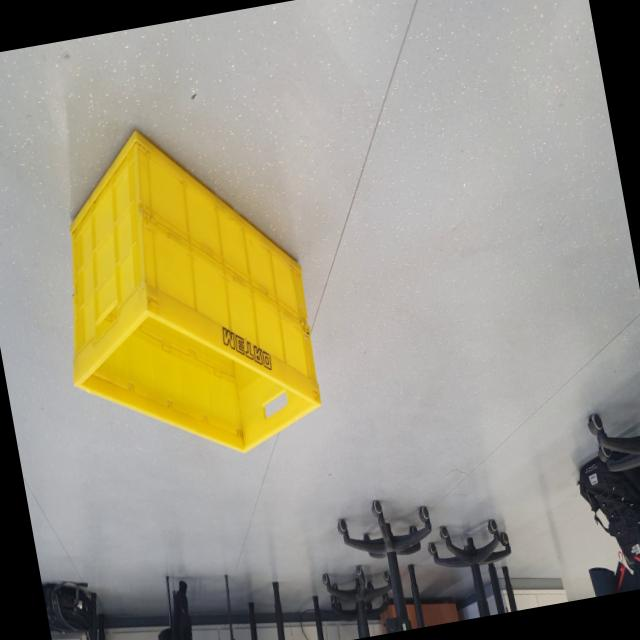box: (14, 85, 336, 492)
